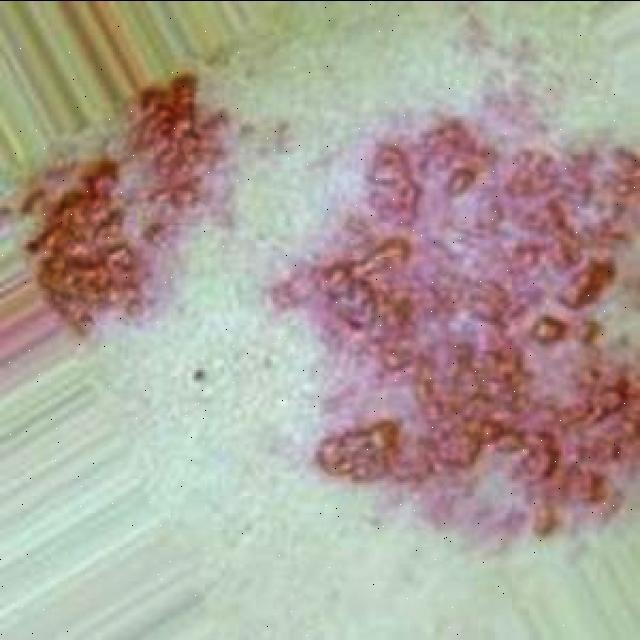Shingles: (269, 115, 640, 543), (15, 74, 234, 330)
